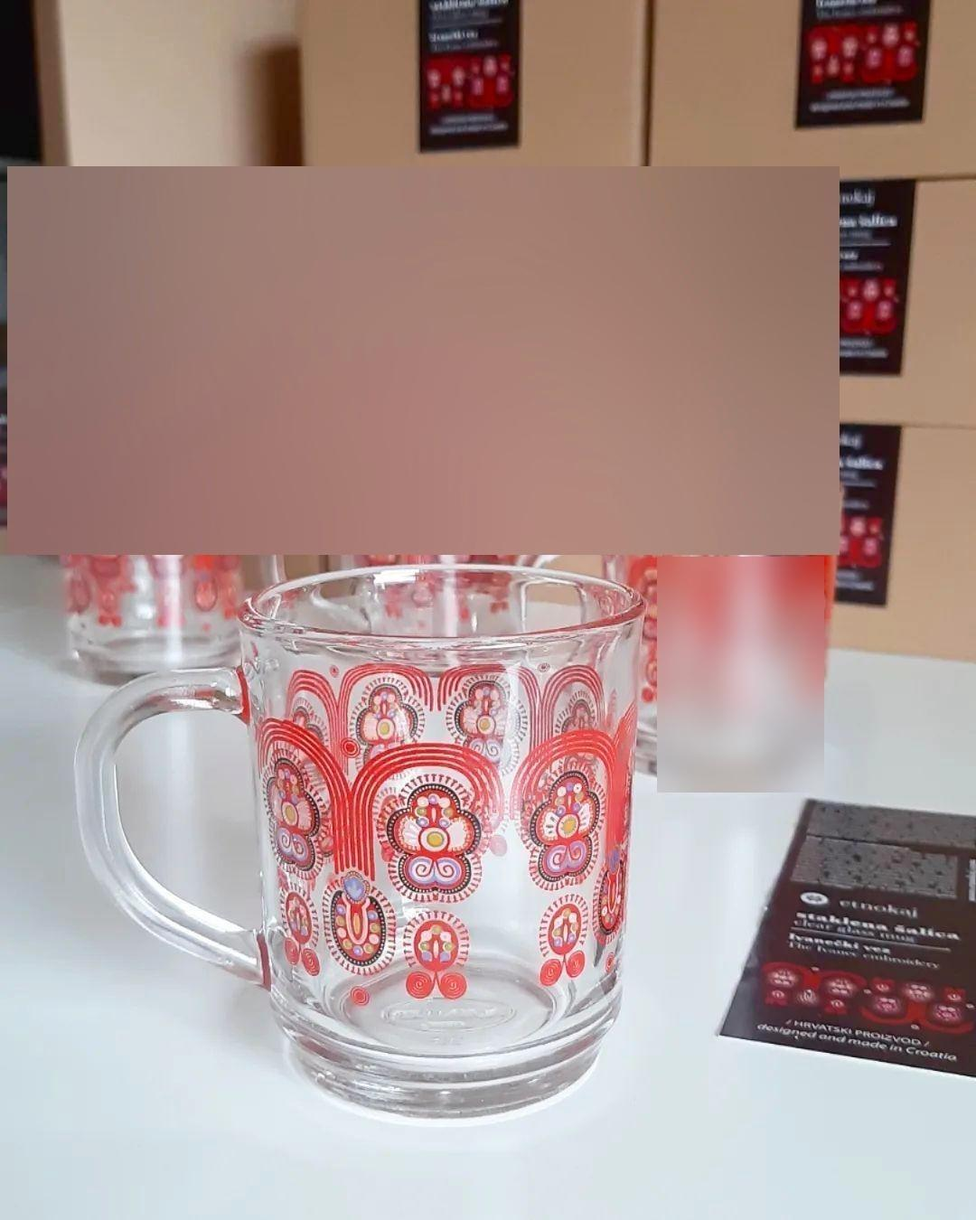glass-mug: (53, 556, 644, 1132)
